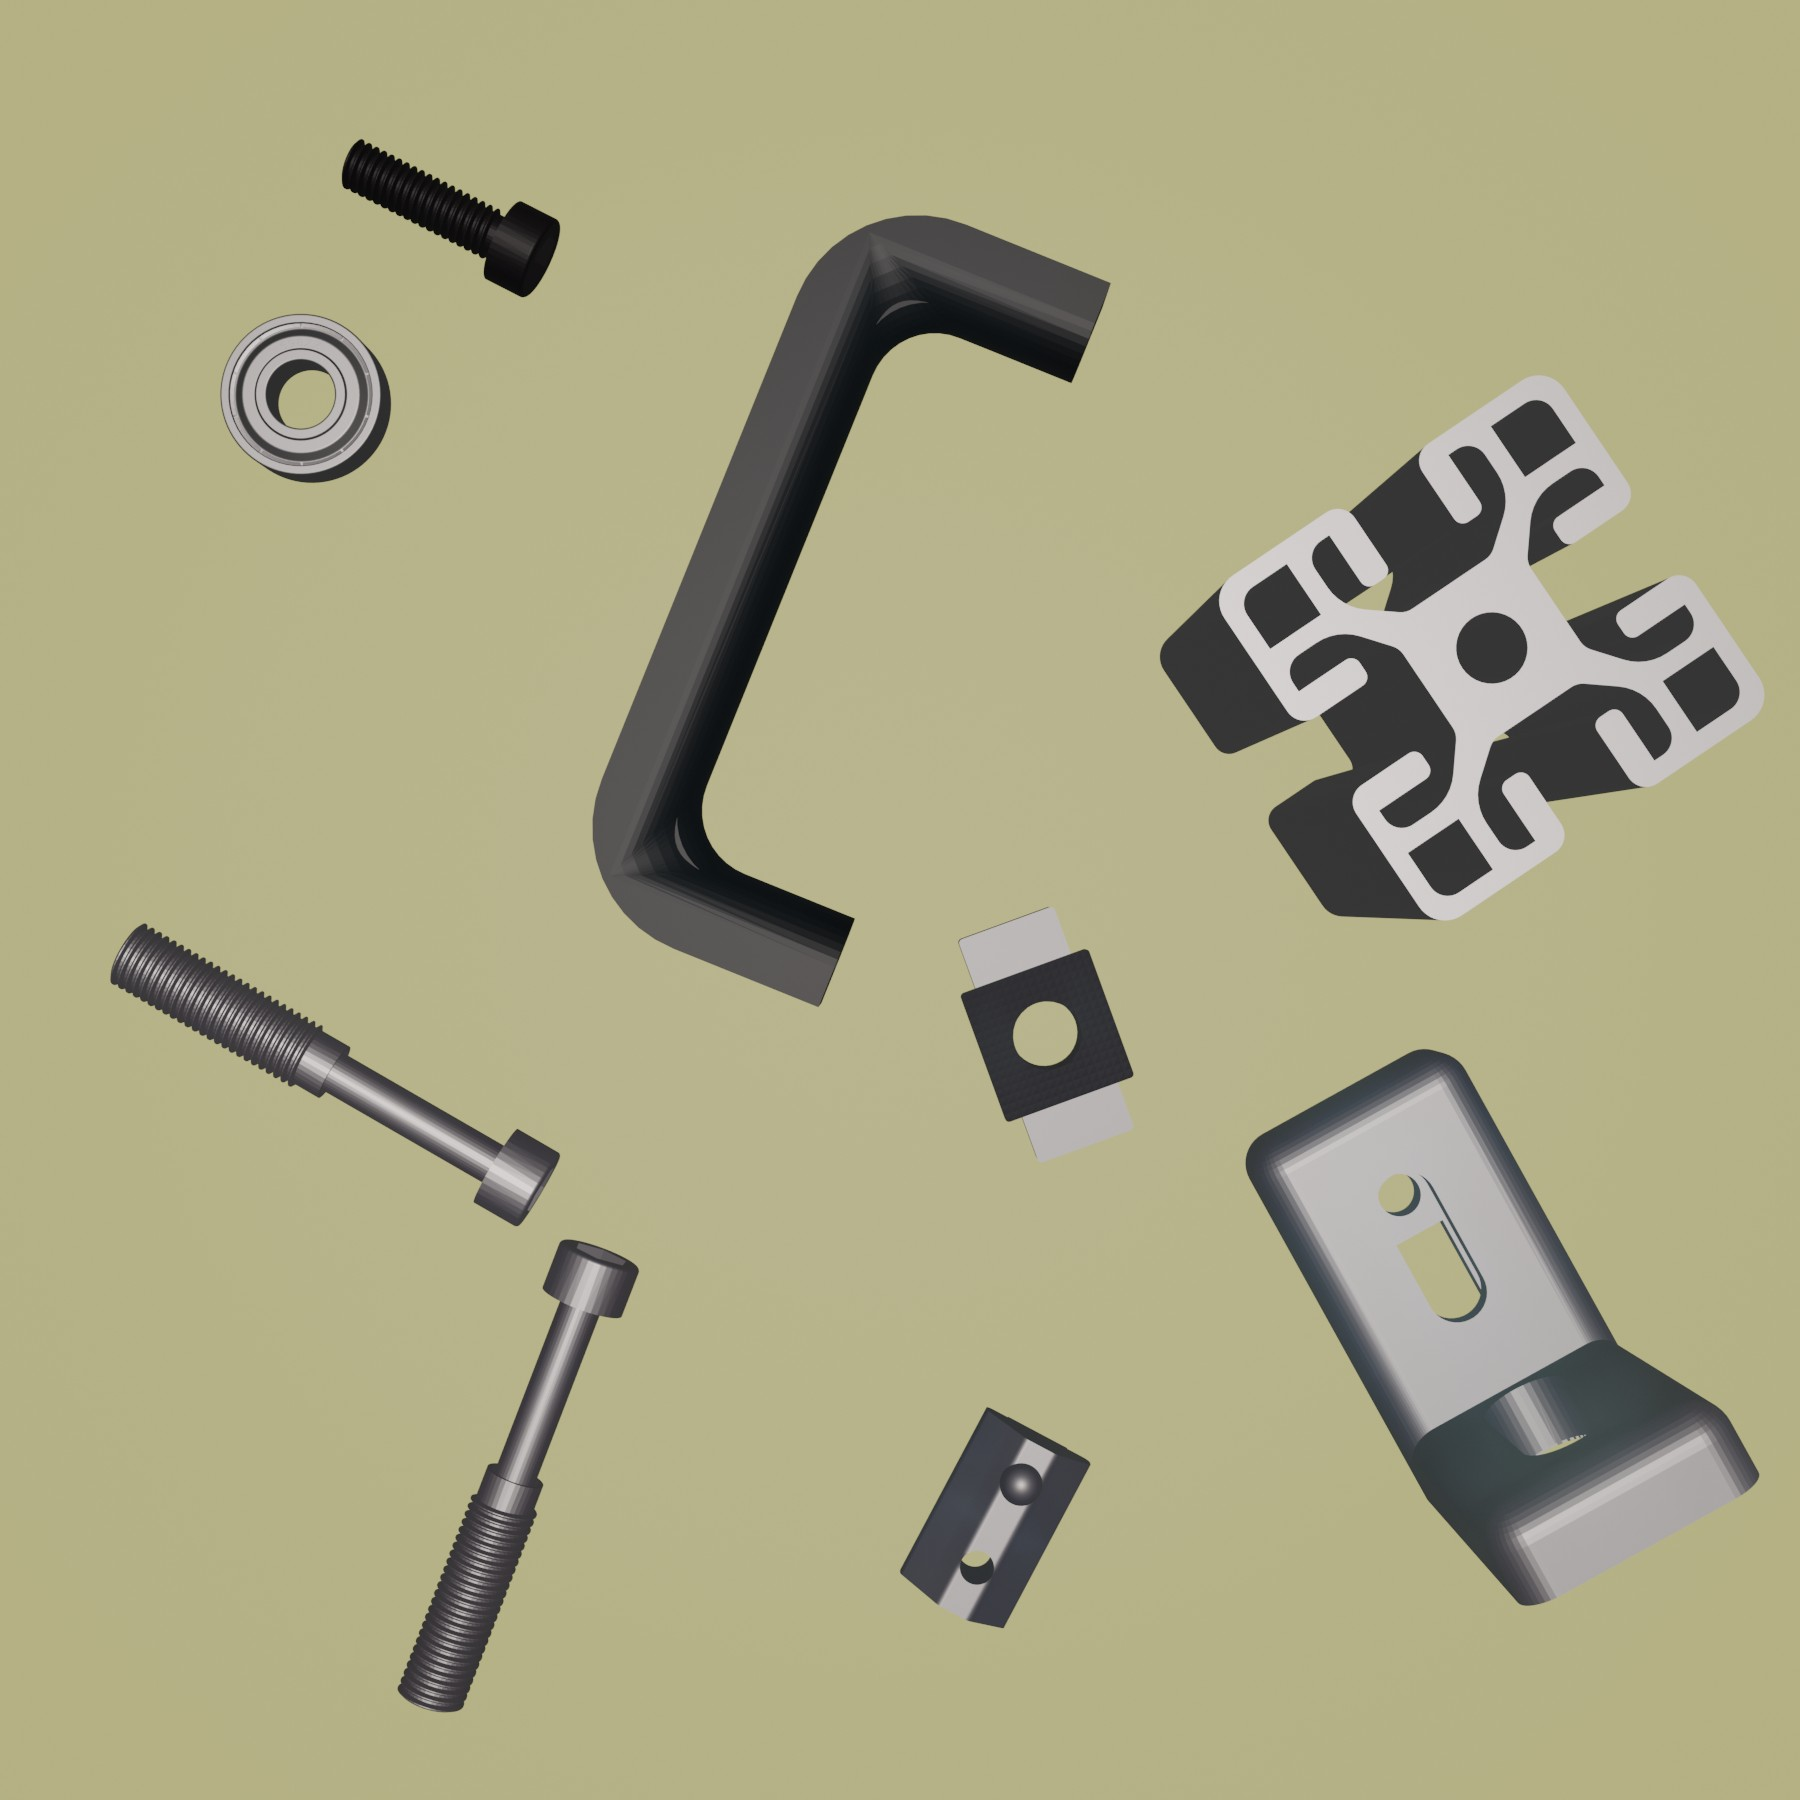Aluminium Extension: (1155, 369, 1770, 926)
Ball Bearing: (216, 308, 392, 485)
Multiwinkel: (1241, 1043, 1759, 1609)
Pull Handle: (588, 211, 1114, 1009)
Shoulder Socket Head Cap Screw: (105, 920, 564, 1228), (392, 1235, 640, 1716)
Socket Head Cap Screw: (338, 134, 564, 298)
T Nut Square: (954, 898, 1146, 1165)
T Spring Nut: (897, 1399, 1095, 1630)
